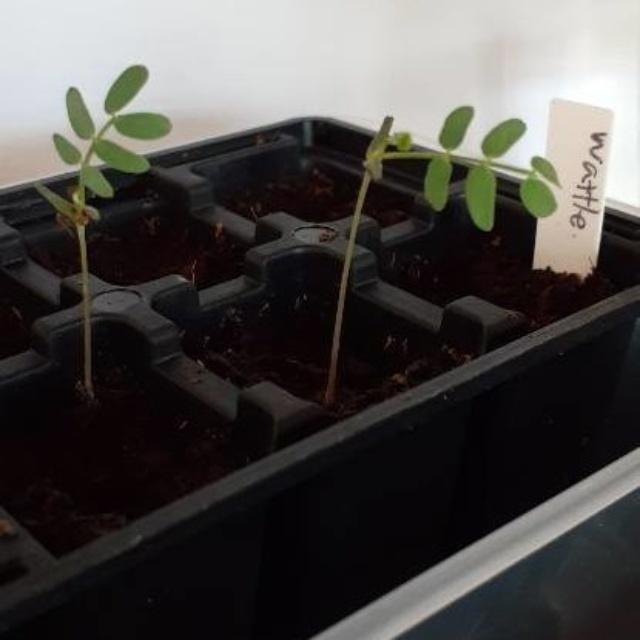obstacle: (327, 77, 564, 375), (28, 42, 167, 419)
